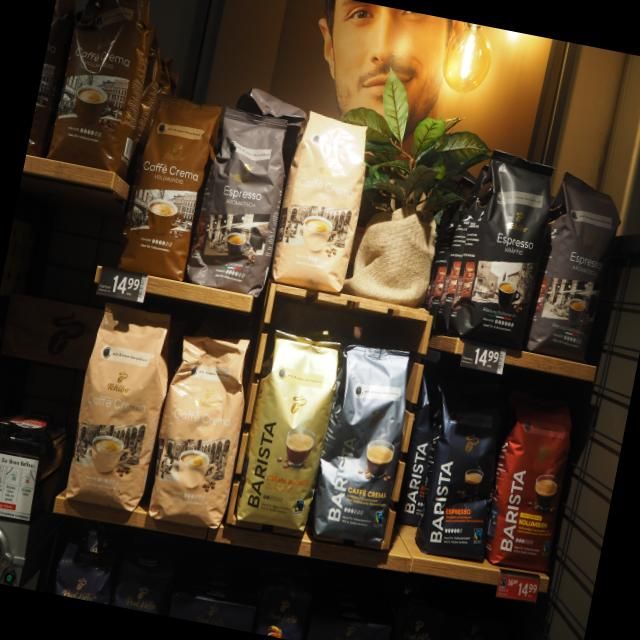Barista CB: (230, 326, 346, 536)
Barista CC: (302, 337, 420, 550)
Barista Espresso: (410, 371, 521, 570)
Barista Kolumbien: (477, 384, 582, 578)
CC Mild: (59, 298, 182, 518), (140, 323, 262, 534), (264, 106, 376, 296)
CC Vollmundig 36 Pads: (110, 88, 226, 287), (41, 0, 165, 178)
Espresso Aromatisch: (182, 102, 300, 302), (522, 168, 631, 368)
Espresso Kraftig: (444, 141, 564, 352)
